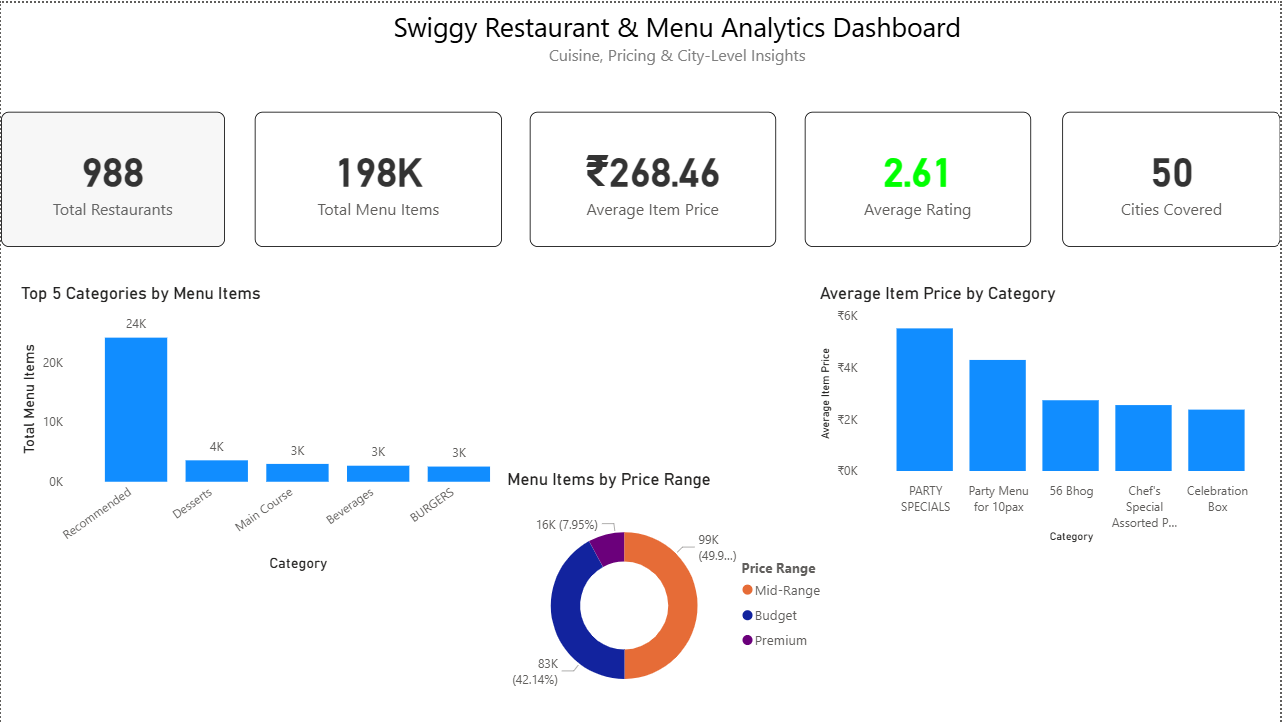

This screenshot's page, from the dashboard's own definition file:
{"tool":"powerbi","page":{"name":"Overview","canvas":[1280,720],"ordinal":0},"visuals":[{"type":"card","fields":{"Values":["swiggy_all_menus_india.Total Restaurants"]},"box":[0,108.2,223.9,135.6],"z":0},{"type":"card","fields":{"Values":["swiggy_all_menus_india.Total Menu Items"]},"box":[253.8,108.2,247.5,135.6],"z":1000},{"type":"card","fields":{"Values":["swiggy_all_menus_india.Average Item Price"]},"box":[528.7,108.2,246.3,135.6],"z":2000},{"type":"card","fields":{"Values":["swiggy_all_menus_india.Cities Covered"]},"box":[1061.1,108.2,218.9,135.6],"z":3000},{"type":"card","fields":{"Values":["swiggy_all_menus_india.Average Rating"]},"box":[803.6,108.2,226.4,135.6],"z":4000},{"type":"textbox","box":[291.1,0,770,108.2],"z":5000},{"type":"clusteredColumnChart","title":"Top 5 Categories by Menu Items","fields":{"Category":["swiggy_all_menus_india.Category"],"Y":["swiggy_all_menus_india.Total Menu Items"]},"box":[15,280,513.8,293.8],"z":6000},{"type":"columnChart","fields":{"Y":["swiggy_all_menus_india.Average Item Price"],"Category":["swiggy_all_menus_india.Category"]},"box":[813.8,280,466.2,265],"z":6001},{"type":"donutChart","title":"Menu Items by Price Range","fields":{"Category":["swiggy_all_menus_india.Price Range"],"Y":["swiggy_all_menus_india.Total Menu Items"]},"box":[501.2,466.2,336.2,253.8],"z":6002}]}

Visuals, with their boxes in screenshot pixels (x1, y1, x2, y2), scaled from the page's 1280x720 canvas onto the 1282x723 screenshot:
card - swiggy_all_menus_india.Total Restaurants: region(0, 109, 224, 245)
card - swiggy_all_menus_india.Total Menu Items: region(254, 109, 502, 245)
card - swiggy_all_menus_india.Average Item Price: region(530, 109, 776, 245)
card - swiggy_all_menus_india.Cities Covered: region(1063, 109, 1281, 245)
card - swiggy_all_menus_india.Average Rating: region(805, 109, 1032, 245)
textbox: region(292, 0, 1063, 109)
"Top 5 Categories by Menu Items" clusteredColumnChart: region(15, 281, 530, 576)
columnChart - swiggy_all_menus_india.Average Item Price x swiggy_all_menus_india.Category: region(815, 281, 1281, 547)
"Menu Items by Price Range" donutChart: region(502, 468, 839, 722)
